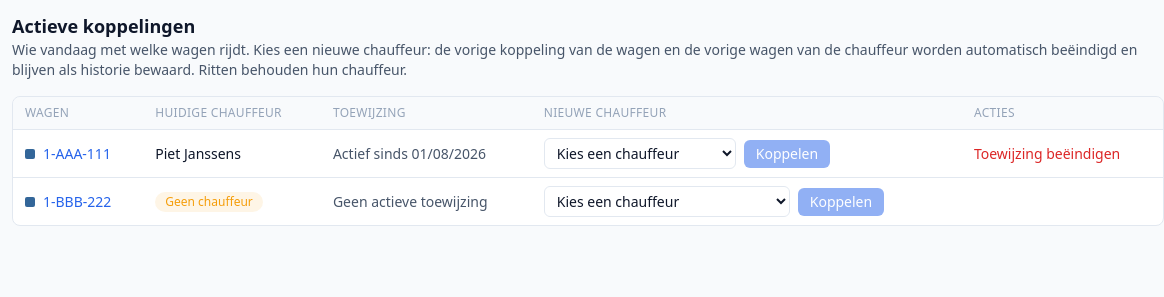
Test: VehicleDriverLinksSection › 6. says so when the driver is already linked
Expected: the link "1-BBB-222" is shown, left=43, top=192, right=111, bottom=212
Select "Ahmet Yilmaz" in the dropdown named "Nieuwe chauffeur voor 1-BBB-222" at (667, 202), box left=544, top=186, right=790, bottom=217
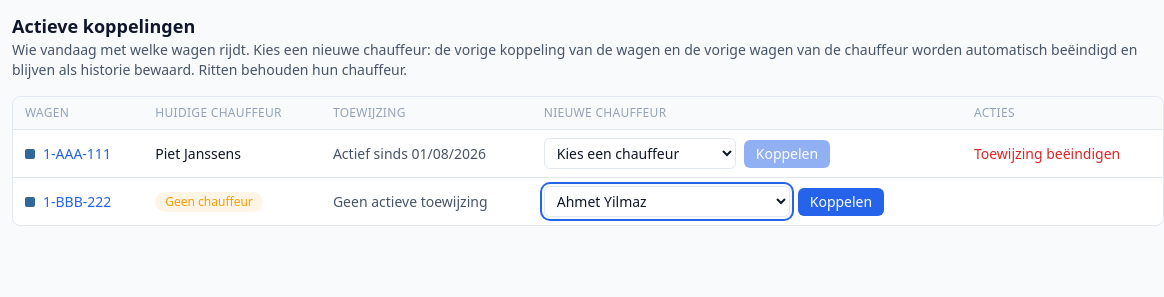
Click the button "Koppelen" in the row of "1-BBB-222" at (841, 202), box left=798, top=188, right=884, bottom=216
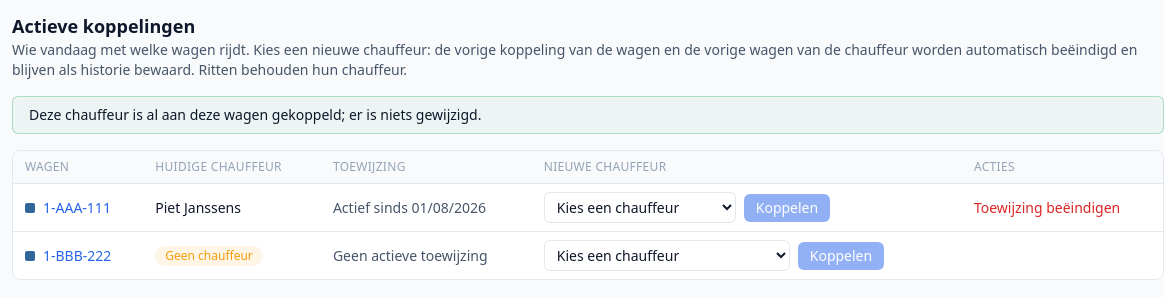
Expected: the message reads "Deze chauffeur is al aan deze wagen gekoppeld; er is niets gewijzigd.", left=29, top=105, right=481, bottom=124
